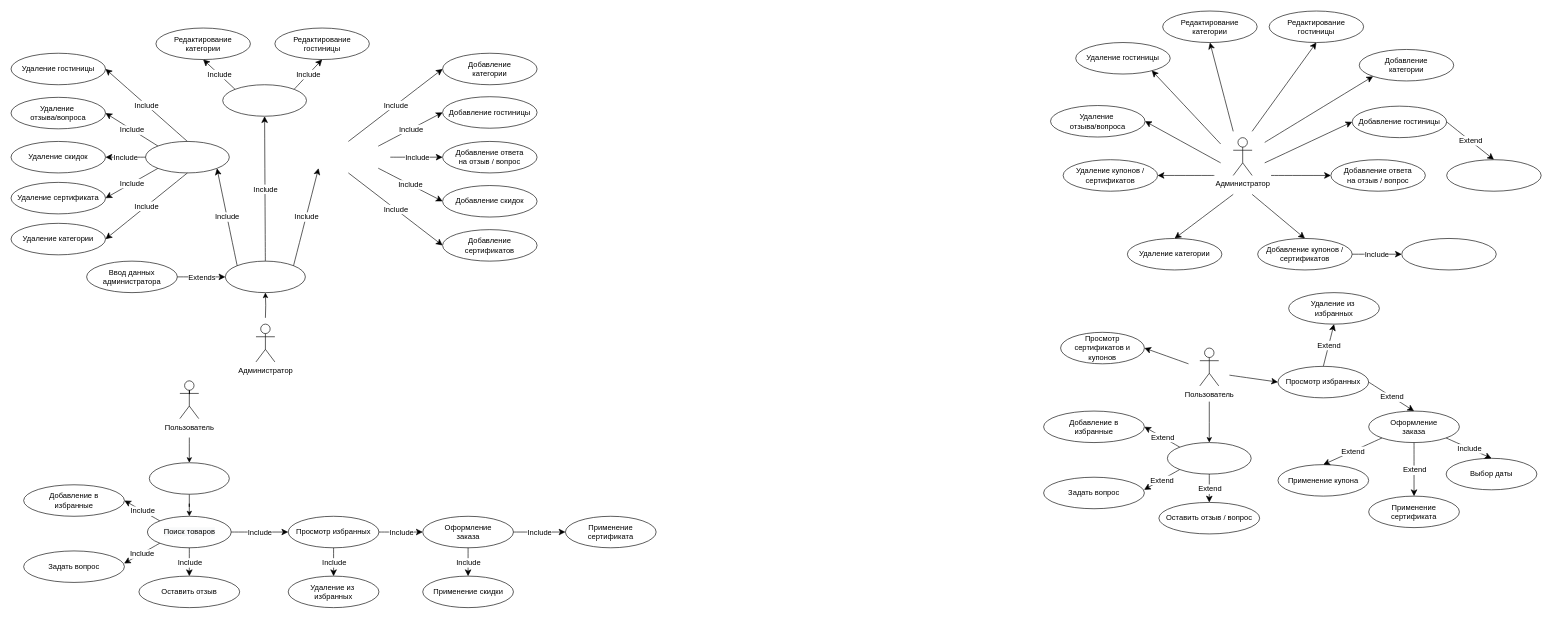
This 1552x619 diagram has some shape labels left out. The box of each missing label's shape, as (x1, y1, x2, y2) in pixels:
АВТОРИЗАЦИЯ: (225, 261, 305, 293)
Вход/регистрация: (149, 462, 229, 494)
Добавление информации о гостинице: (1446, 159, 1541, 191)
Добавление информации о скидке: (1401, 238, 1496, 270)
Просмотр гостиниц: (1167, 442, 1251, 474)
Редактирование: (222, 84, 306, 116)
Удаление: (145, 141, 229, 173)
